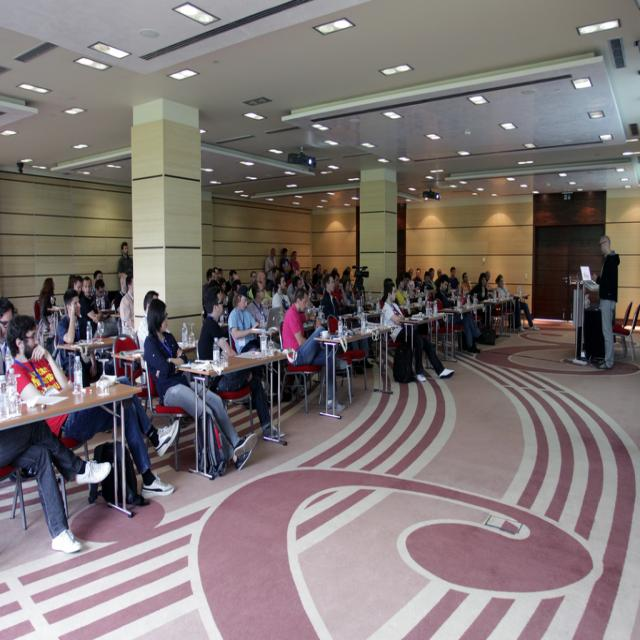chair: (143, 348, 194, 471), (0, 466, 28, 528), (613, 300, 639, 362)
desk: (162, 347, 277, 476)
person: (145, 299, 256, 472), (0, 315, 80, 554), (380, 276, 454, 381), (590, 233, 620, 370)
